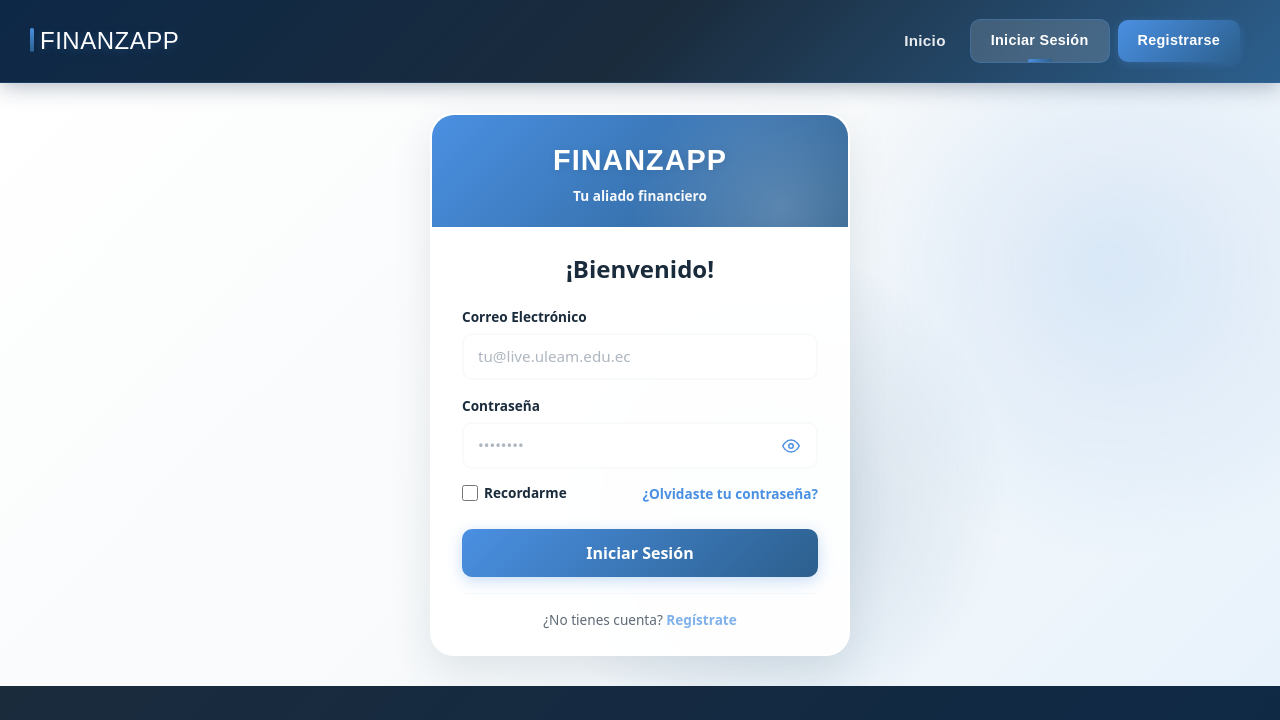
Login E2E Tests › Validaciones del formulario › Debe mostrar error con dominio de email inválido
In the field with test id "email": (640, 357) [462, 333, 818, 380], type "test@gmail.com"
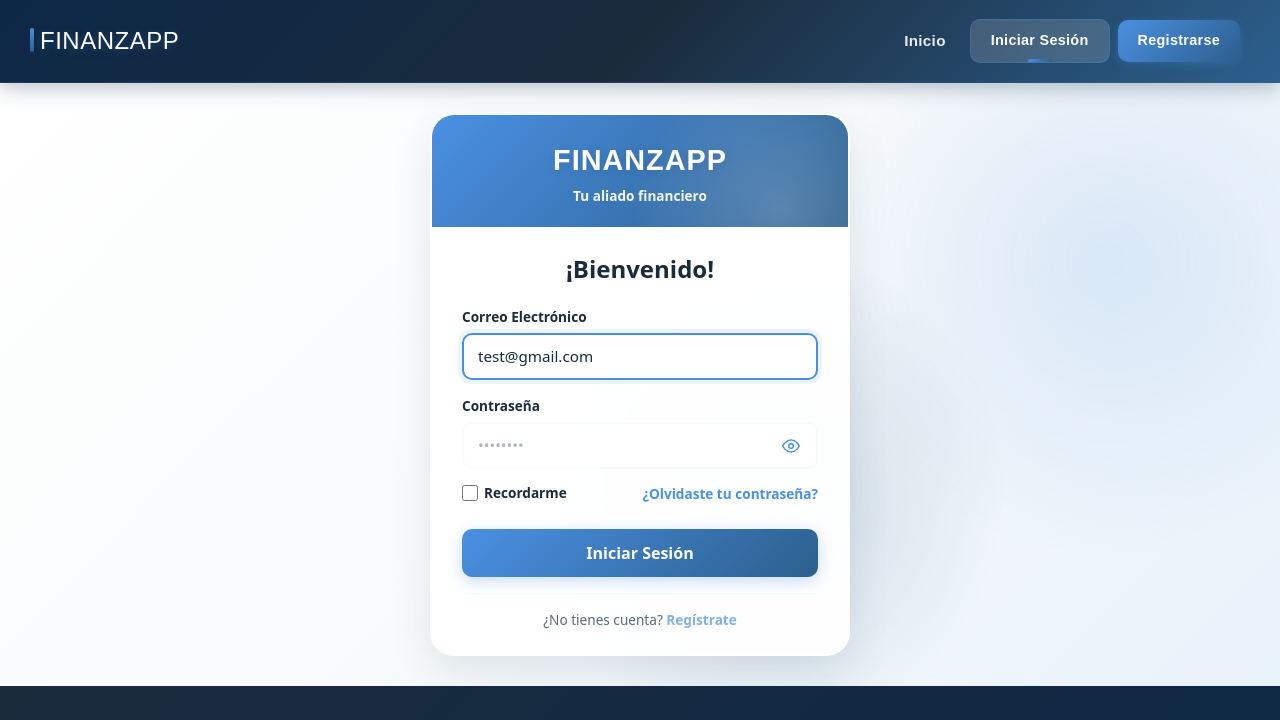
In the password field with test id "password": (640, 446) [462, 422, 818, 469], type "TestPass123#"
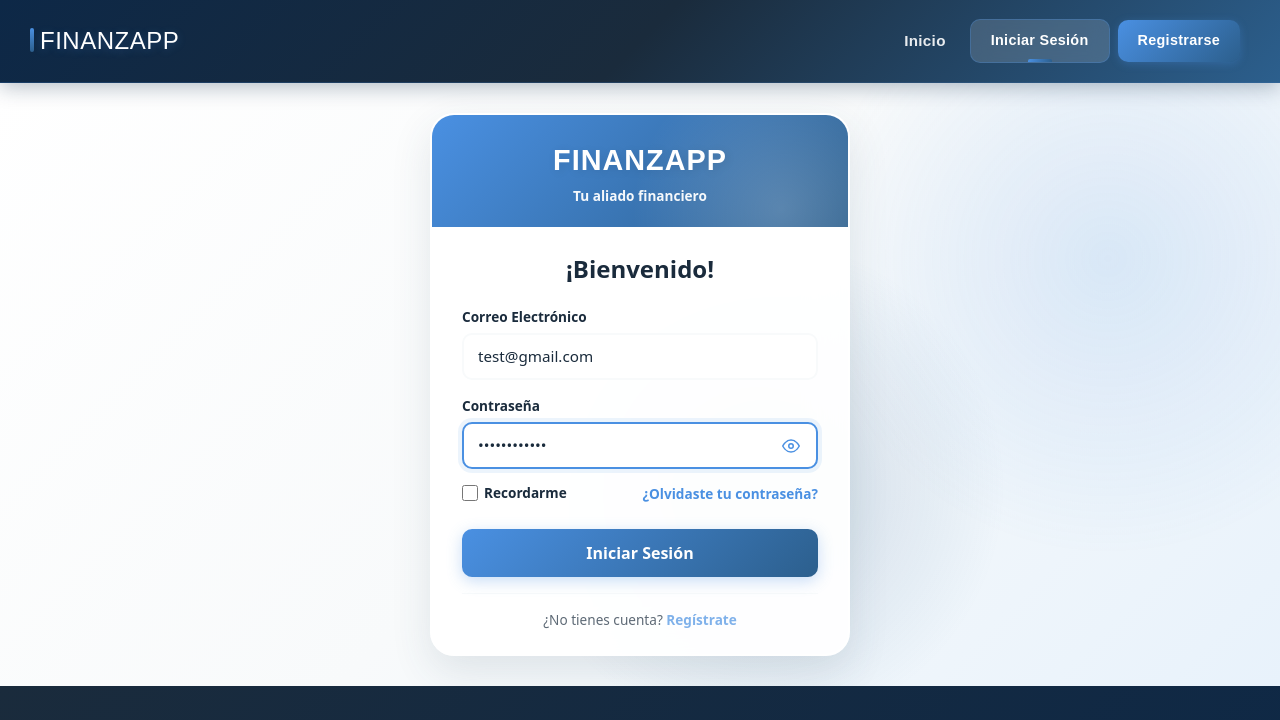
Click the button with test id "btn-login": (640, 553) [462, 529, 818, 577]
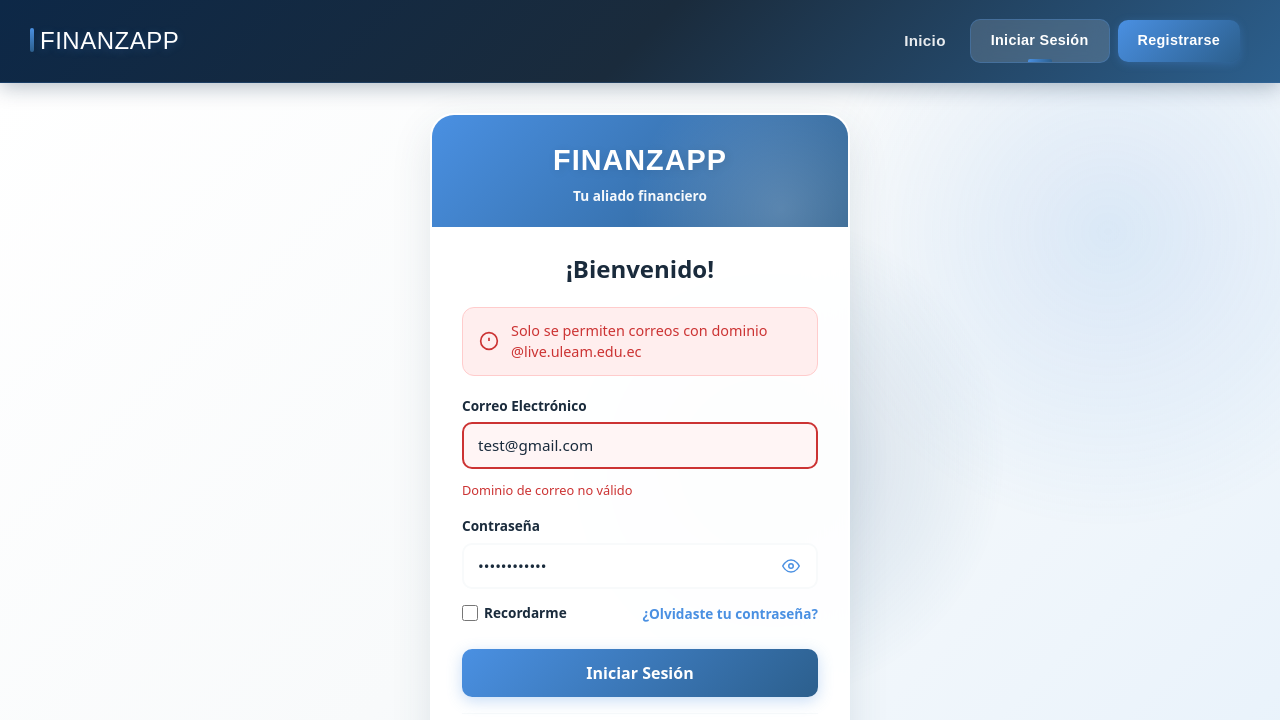
Expected: the text "@live.uleam.edu.ec" is shown, [511, 321, 768, 362]
Expected: the element with class "alert-error" is shown, [462, 307, 818, 376]
